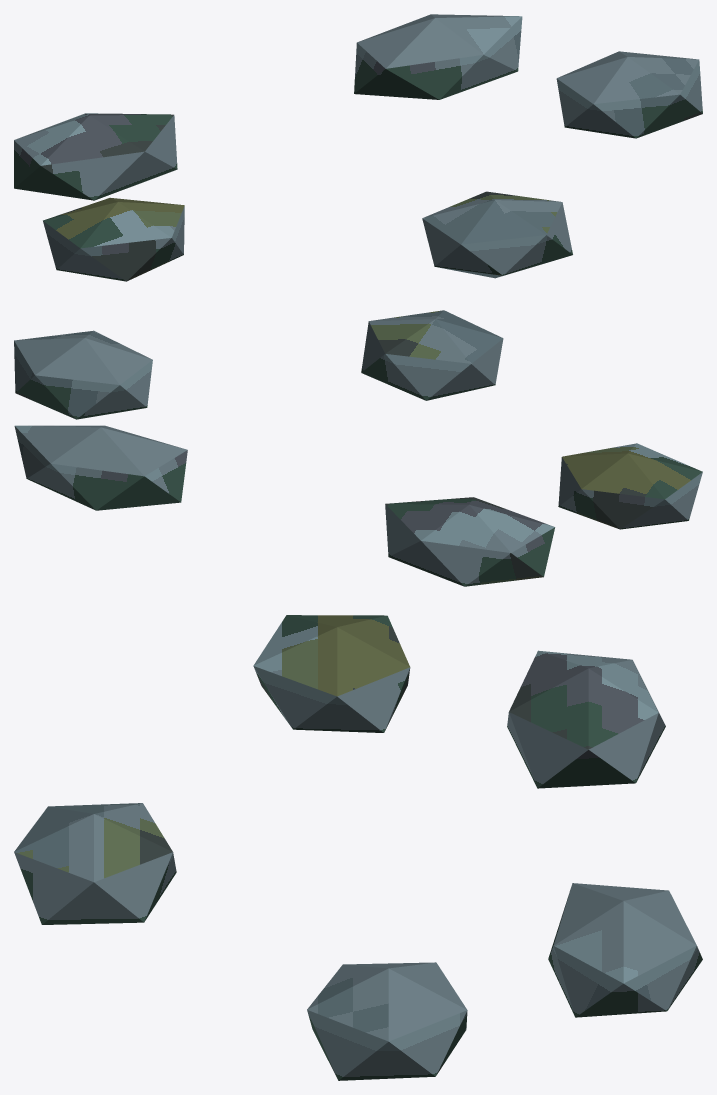
File: enfeite_seixos.glb
3 views of the same model, one above another, from view 1: azimuth 30°, elevation 25°; view 2: azimuth 150°, elevation 25°; view 3: azimuth 270°, elevation 25° (orthographic). The views are drawn at different scales.
Parts seen in each view (by area): view 1: bosque_enfeite_seixos; view 2: bosque_enfeite_seixos; view 3: bosque_enfeite_seixos.
Boxes of the visible parts, left/top/right/bottom form: bosque_enfeite_seixos: left=14, top=14, right=702, bottom=281; bosque_enfeite_seixos: left=14, top=310, right=702, bottom=586; bosque_enfeite_seixos: left=14, top=615, right=702, bottom=1080.
Bounding box in the file's own units: 0.4473 × 0.0523 × 0.3027.
1 material, 1 textured.
